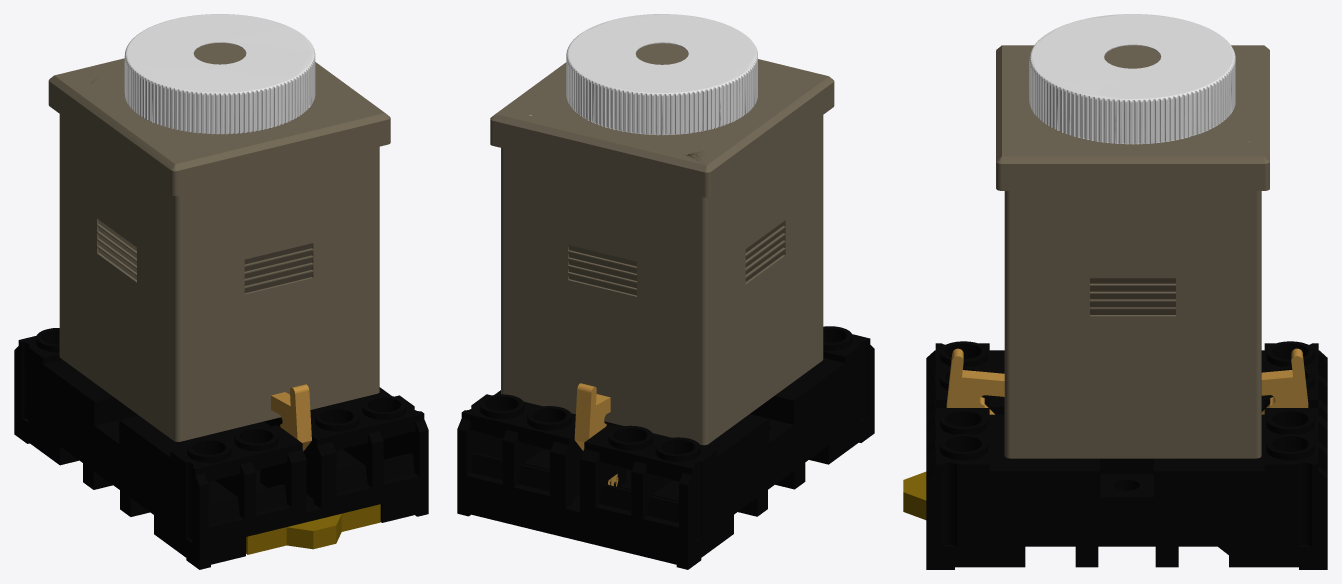
The picture shows the model from 3 angles, left to right: view 1: azimuth 30°, elevation 25°; view 2: azimuth 150°, elevation 25°; view 3: azimuth 270°, elevation 25°; orthographic projection. The views are drawn at different scales.
Parts seen in each view (by area): view 1: timer2_v0.003, 70178118_2, timer2_v0.004; view 2: timer2_v0.003, 70178118_2, timer2_v0.004; view 3: timer2_v0.003, 70178118_2, timer2_v0.004.
Part boxes in pixels (x1,y1,x2,y2): timer2_v0.003: (48, 43, 390, 441); 70178118_2: (14, 328, 428, 569); timer2_v0.004: (124, 14, 315, 134); timer2_v0.003: (490, 43, 834, 445); 70178118_2: (457, 326, 874, 569); timer2_v0.004: (566, 14, 757, 135); timer2_v0.003: (996, 45, 1269, 458); 70178118_2: (903, 341, 1327, 569); timer2_v0.004: (1029, 14, 1235, 144).
Size of the model in its own units: 5000 by 8728 by 7405.
